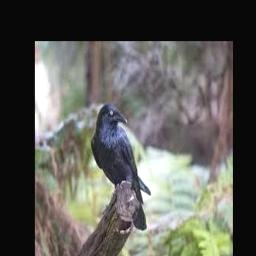Crow: (90, 104, 151, 204)
